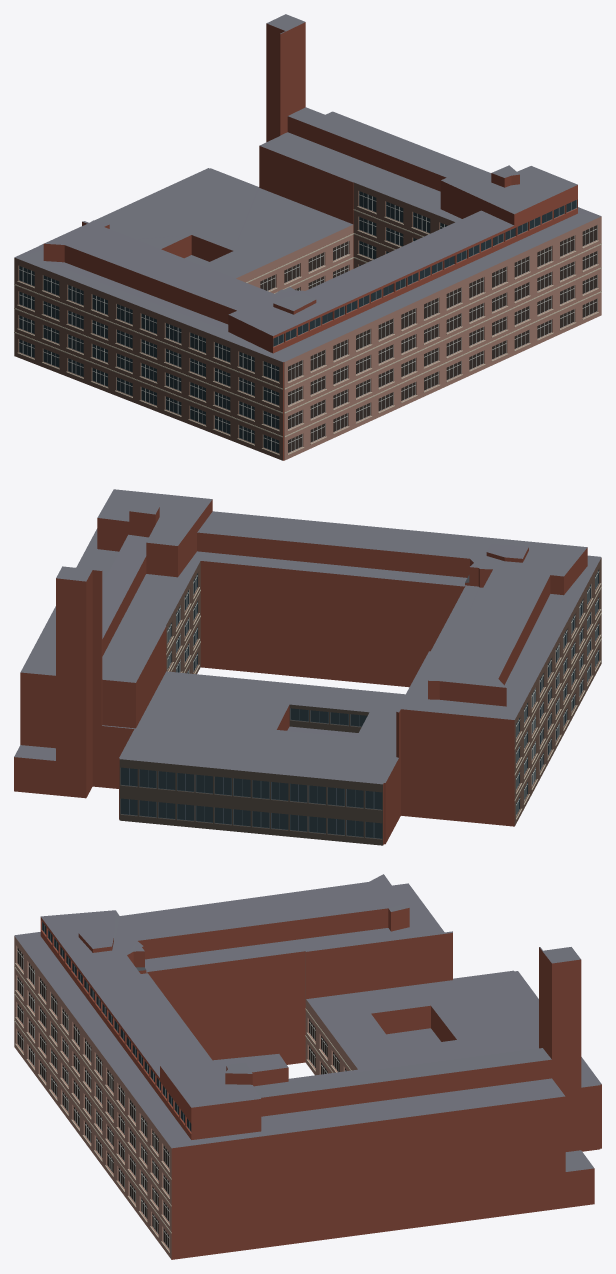
Rendered from recipe-large-valckenierstraat-65-170734.glb.
3 views of the same model, one above another, from view 1: azimuth 30°, elevation 25°; view 2: azimuth 150°, elevation 25°; view 3: azimuth 270°, elevation 25° (orthographic). The views are drawn at different scales.
Visible parts, largest first — view 1: valckenierstraat-65-170734; view 2: valckenierstraat-65-170734; view 3: valckenierstraat-65-170734.
Part boxes in pixels (x1,y1,x2,y2): valckenierstraat-65-170734: (14,14,601,460); valckenierstraat-65-170734: (14,489,601,845); valckenierstraat-65-170734: (14,874,601,1259).
Bounding box in the file's own units: 82.45 × 32.8 × 77.14.
